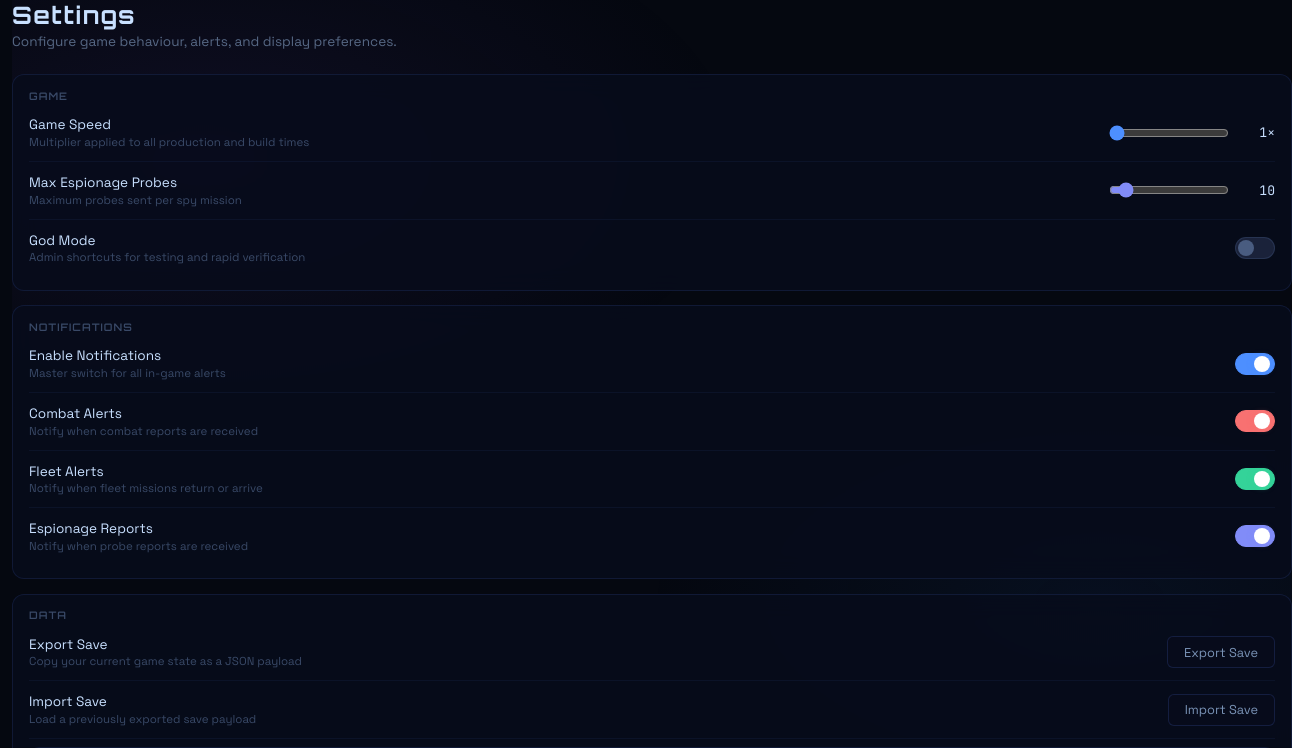
Test case: SettingsPanel — Data group › Import button with empty textarea shows an error hint
Make sure textarea is empty, then click Import
Click the button "Import Save": (1221, 710) [1168,694,1275,726]
(page scrolled)
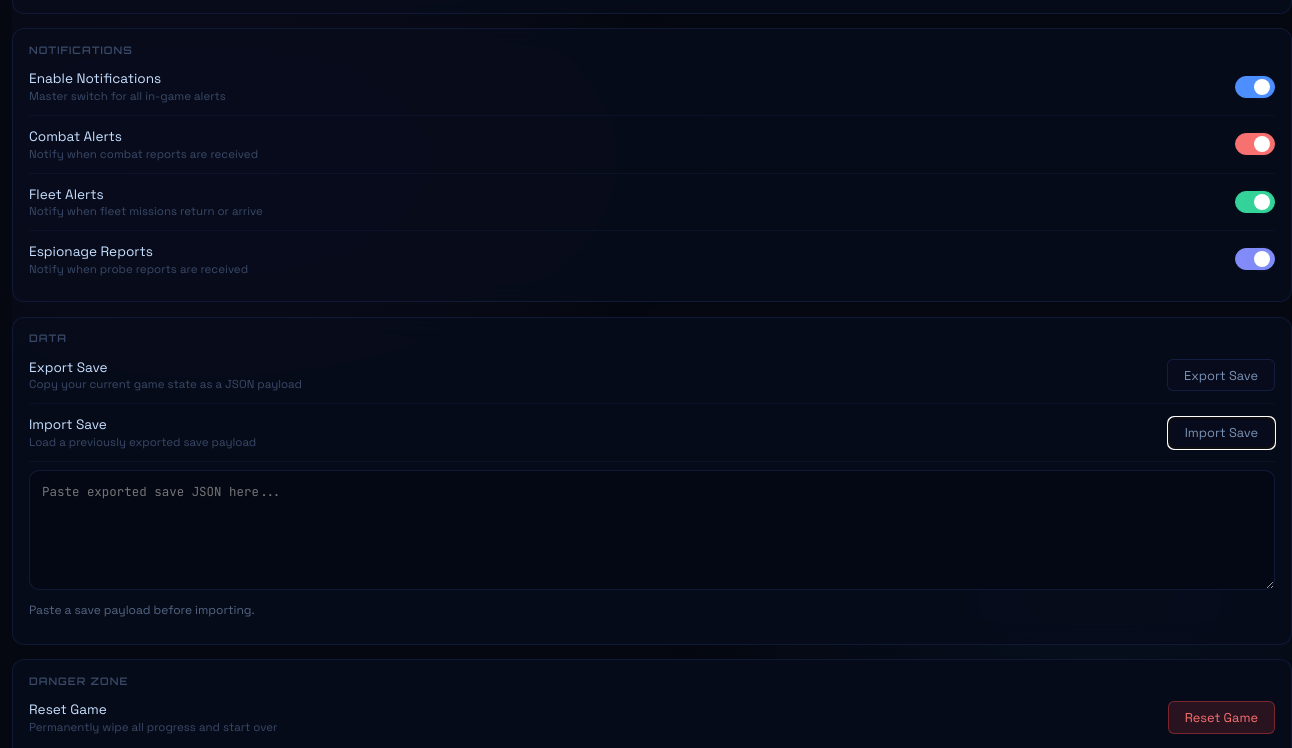
expect the text "Paste a save payload before importing." is shown: met, box [29,602,255,618]
